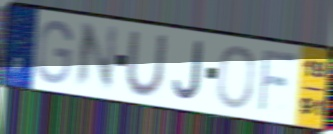F: (256, 47, 300, 116)
G: (34, 17, 75, 86)
J: (171, 39, 205, 103)
N: (71, 21, 120, 91)
O: (214, 44, 258, 111)
U: (123, 29, 170, 99)
